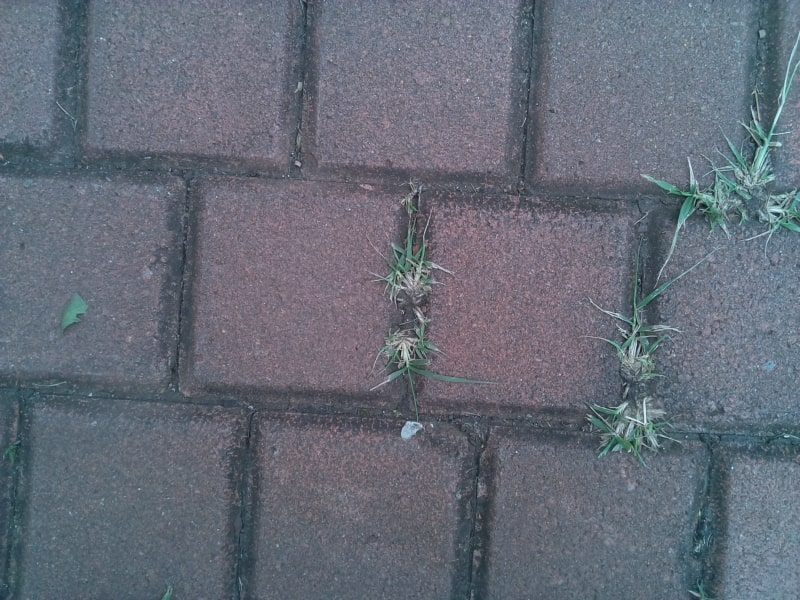Weed: (669, 93, 800, 240), (598, 292, 680, 384), (367, 223, 446, 302), (587, 394, 672, 458), (377, 323, 448, 399)
